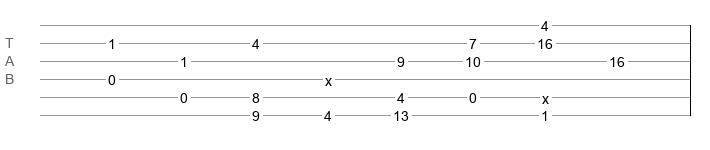0: (108, 72, 116, 82), (180, 90, 188, 100), (469, 90, 477, 100)
1: (108, 36, 116, 46), (180, 54, 188, 64), (541, 108, 549, 118)
10: (465, 54, 481, 64)
13: (393, 108, 409, 118)
16: (537, 36, 553, 46), (609, 54, 625, 64)
4: (252, 36, 260, 46), (324, 108, 332, 118), (397, 90, 405, 100), (541, 18, 549, 28)
7: (469, 36, 477, 46)
8: (252, 90, 260, 100)
9: (252, 108, 260, 118), (397, 54, 405, 64)
x: (325, 73, 332, 81), (542, 91, 549, 99)
